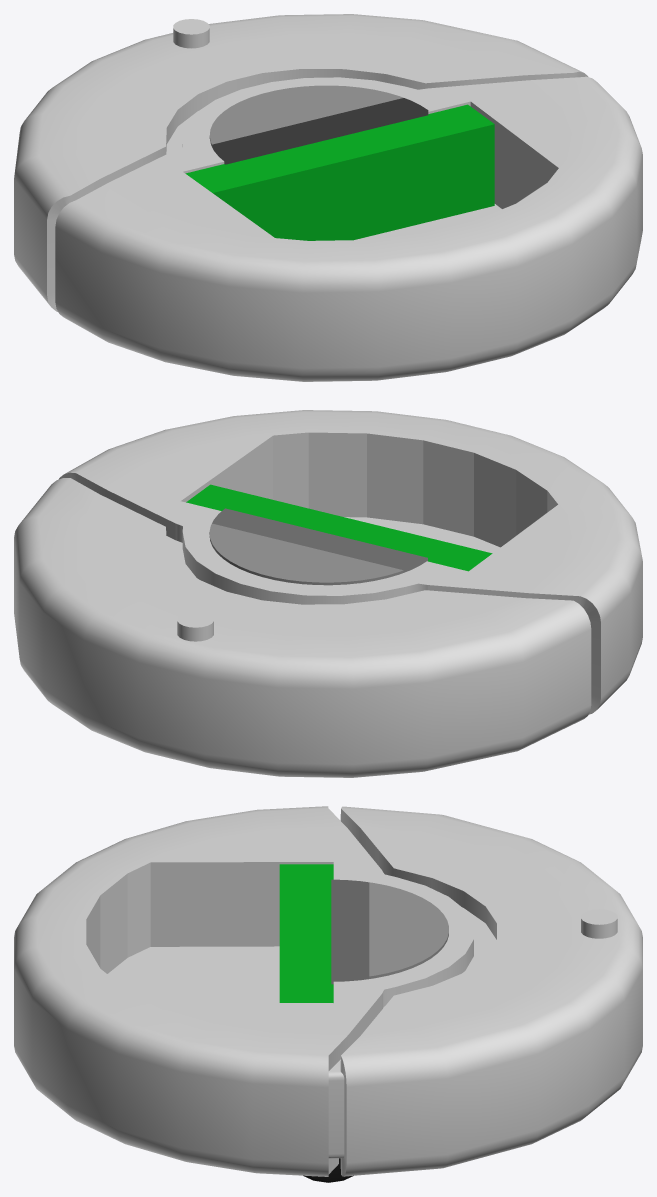
The model's file is gpucc.FBX.
3 views of the same model, one above another, from view 1: azimuth 30°, elevation 25°; view 2: azimuth 150°, elevation 25°; view 3: azimuth 270°, elevation 25° (orthographic).
Parts seen in each view (by area): view 1: ChamferCyl01, Box02, Status, Cylinder01; view 2: ChamferCyl01, Status, Box02, Cylinder01; view 3: ChamferCyl01, Status, Box02, Cylinder01.
Part boxes in pixels (x1,y1,x2,y2): ChamferCyl01: [14, 14, 642, 381]; Box02: [185, 104, 494, 240]; Status: [209, 85, 428, 164]; Cylinder01: [173, 19, 209, 48]; ChamferCyl01: [14, 410, 642, 777]; Status: [209, 508, 427, 585]; Box02: [186, 484, 492, 571]; Cylinder01: [177, 612, 213, 641]; ChamferCyl01: [14, 806, 642, 1176]; Status: [331, 879, 448, 984]; Box02: [279, 864, 333, 1002]; Cylinder01: [581, 909, 617, 938].
Bounding box in the file's own units: 0.1209 × 0.12 × 0.0323.
